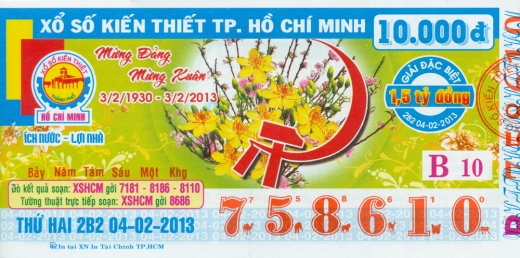serial_zone: (211, 189, 499, 240)
